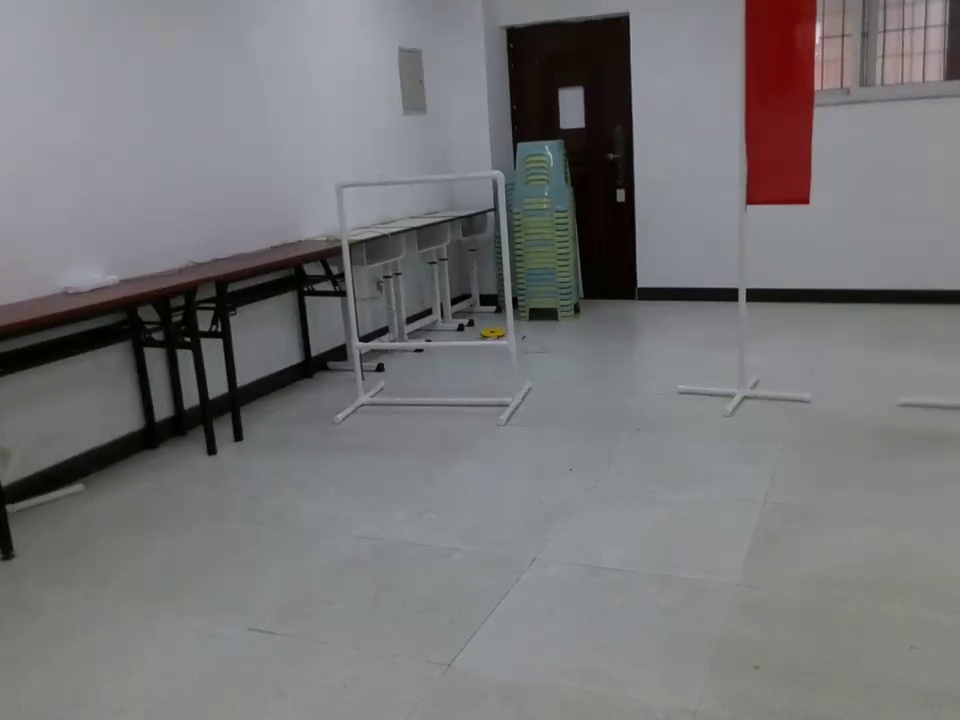qi: (742, 1, 819, 206)
